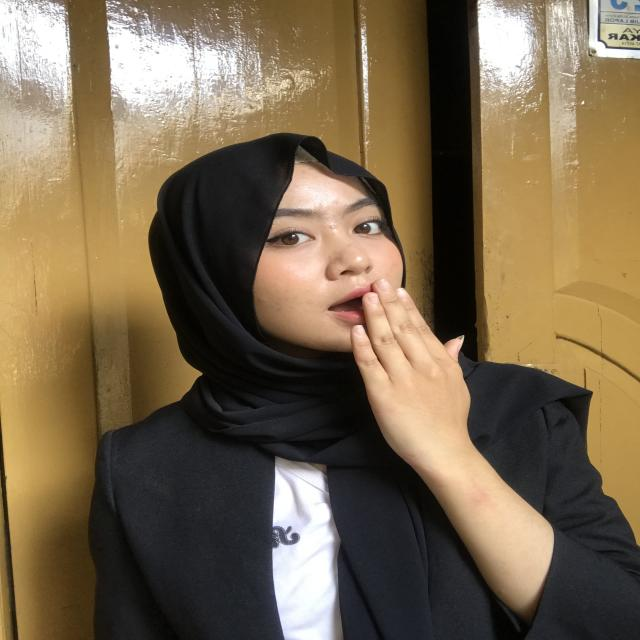ngantuk: (325, 269, 494, 483)
